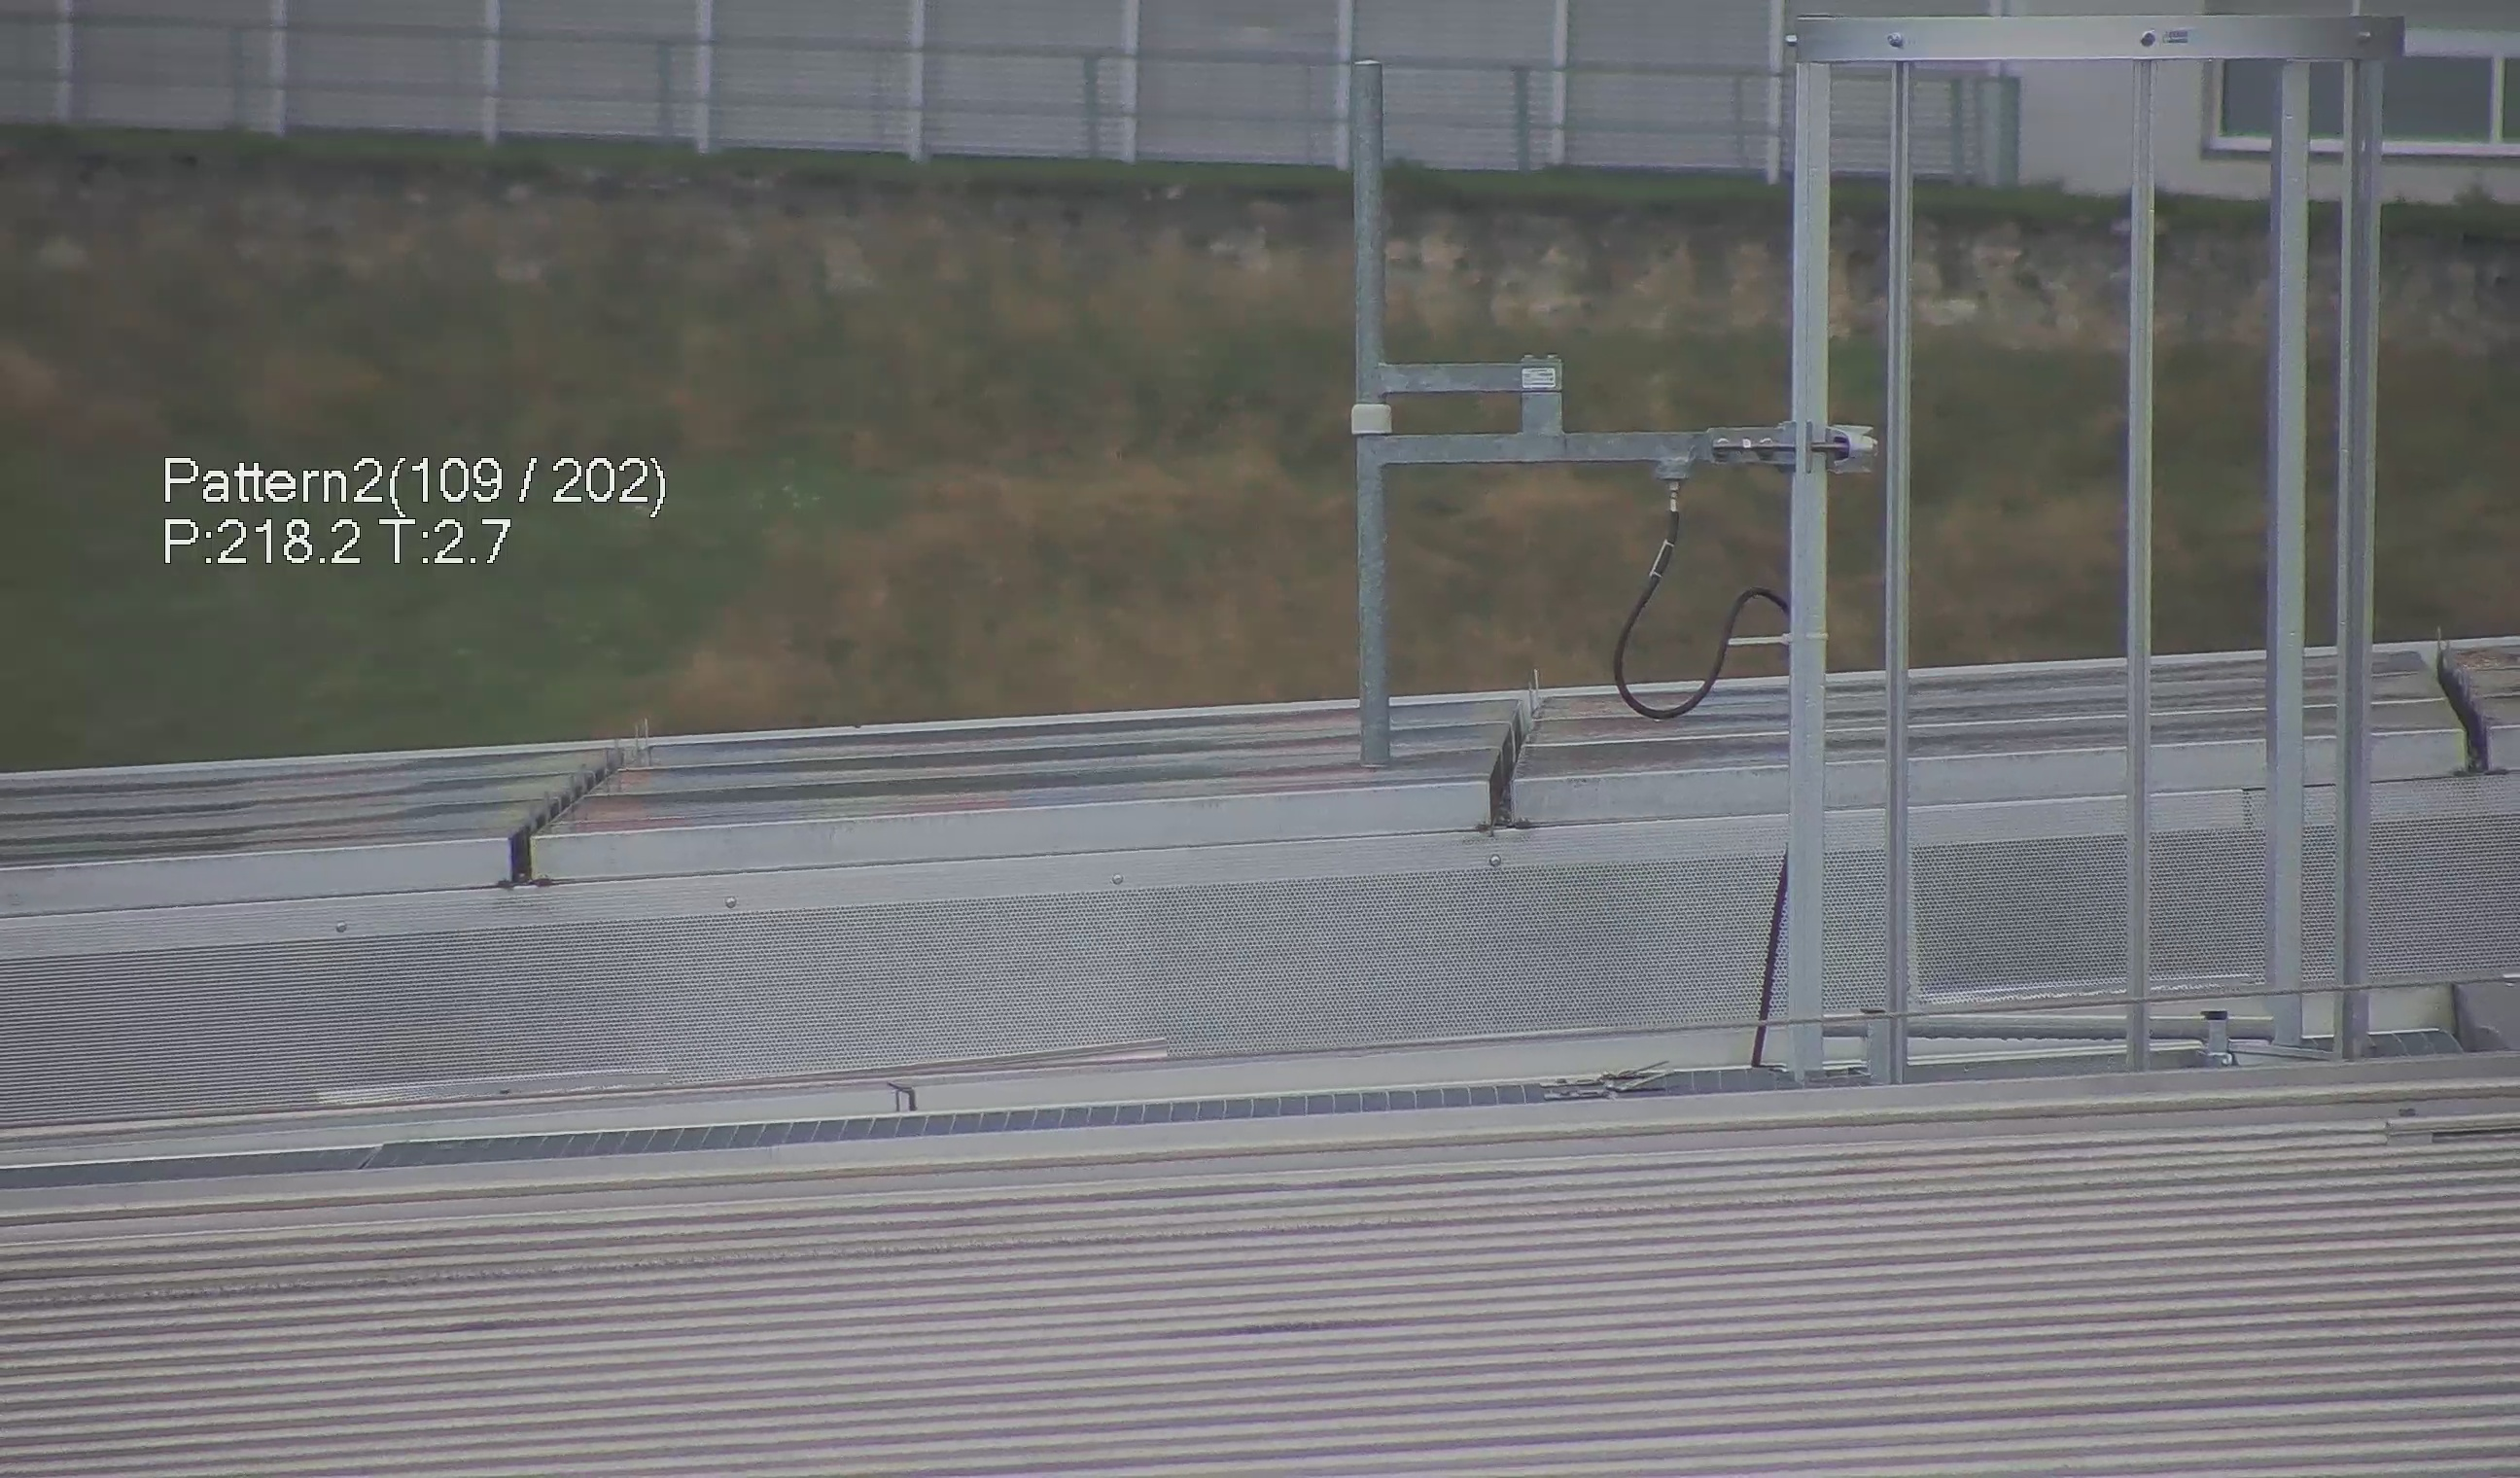Other: (2418, 630, 2516, 788)
